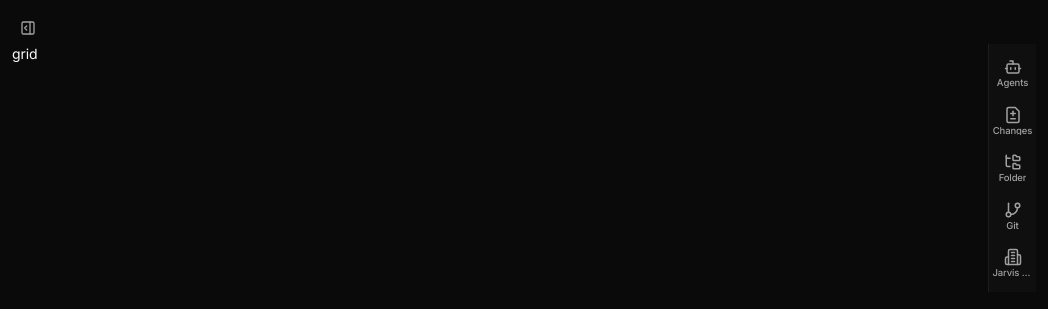
Test: IdeSidePanel › leaves a labelled rail on the right edge while closed, and opens at the tab picked there
Expected: the navigation bar with test id "ide-side-panel-rail" shows "Agents", [992,52,1032,94]
Expected: the navigation bar with test id "ide-side-panel-rail" shows "Changes", [992,100,1032,141]
Step 1. Click the button with test id "ide-side-panel-rail-files" → (1012, 168), box [992,147,1032,188]
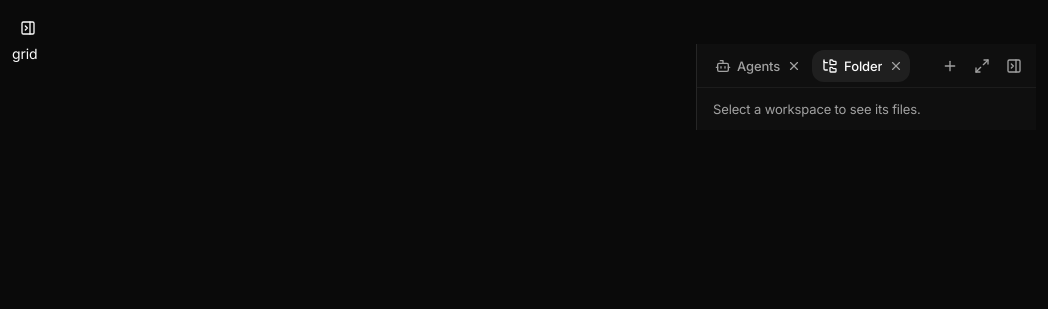
Result: the navigation bar with test id "ide-side-panel-rail" is gone
